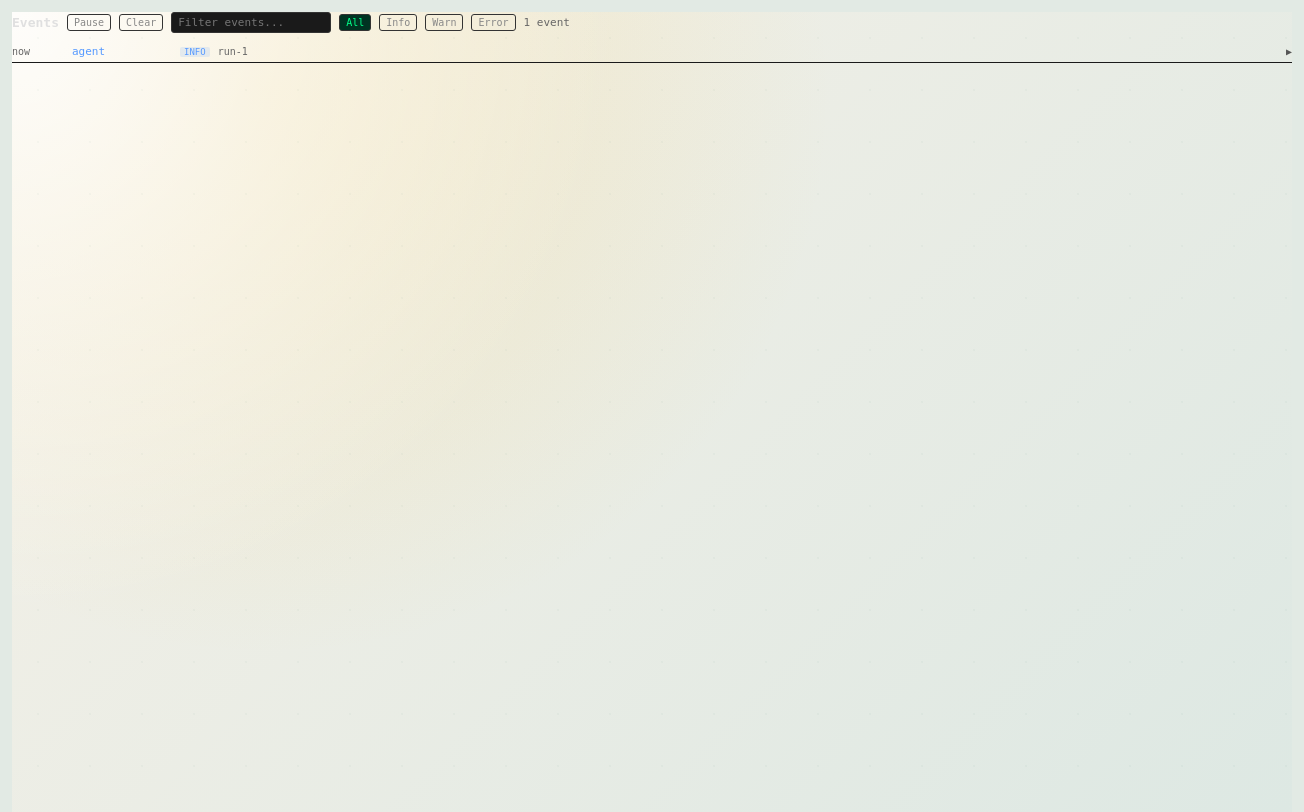
Scenario: EventFeed › JSON expand works on event click
The image size is (1304, 812).
# Click event to expand
Click the element showing "now agent info run-1 ▶": (89, 52) [12,45,1292,58]
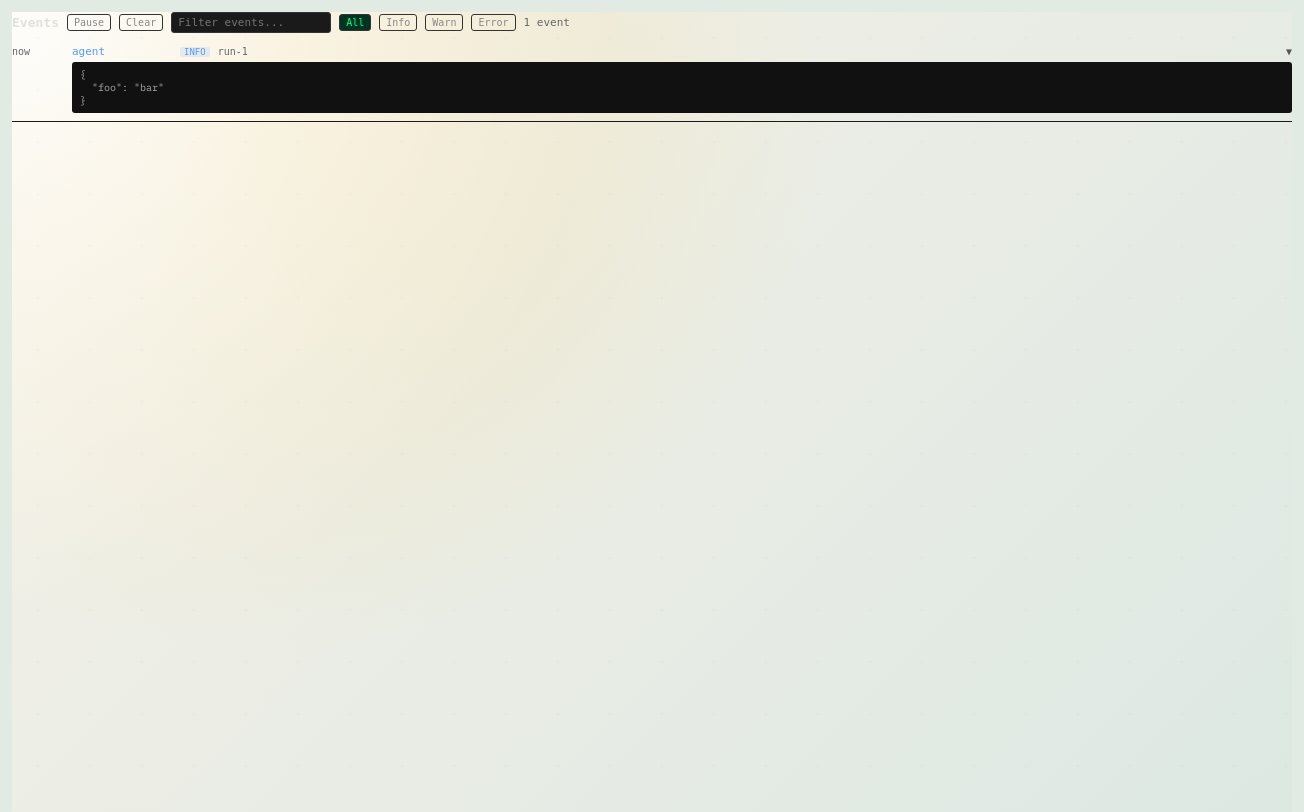
Expected: the text with test id "event-payload-ev-expand" shows "\"foo\"", [80,68,164,107]
Expected: the text with test id "event-payload-ev-expand" shows "\"bar\"", [80,68,164,107]
